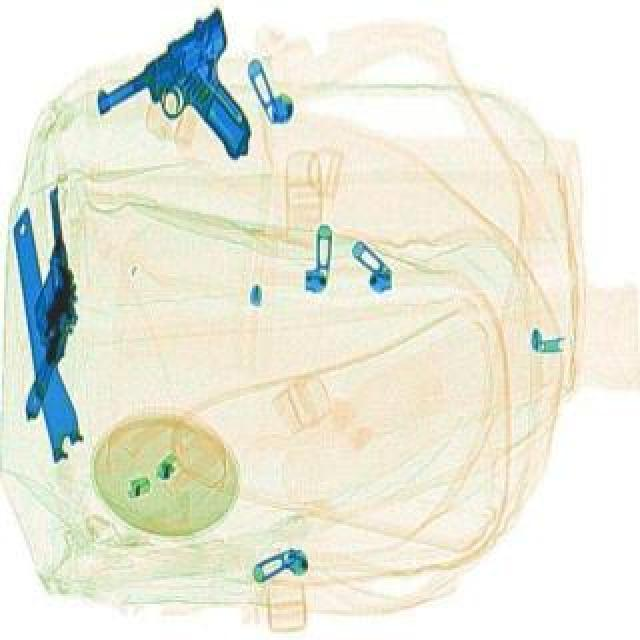gun: (78, 4, 300, 200), (0, 184, 88, 416)
